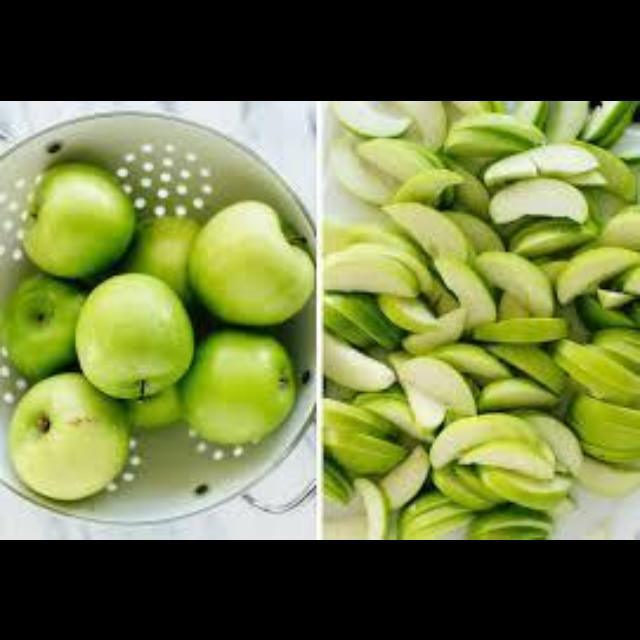apple: (189, 199, 312, 324), (9, 372, 128, 497), (76, 272, 191, 395), (179, 329, 295, 442), (24, 161, 135, 275), (0, 272, 85, 379), (123, 216, 198, 303), (553, 339, 638, 405), (430, 412, 536, 464), (475, 251, 553, 315), (383, 202, 470, 258), (555, 246, 638, 301), (484, 143, 597, 183), (324, 246, 418, 294), (397, 355, 475, 412), (328, 135, 392, 202), (435, 256, 494, 327), (444, 112, 543, 154), (489, 178, 586, 220), (324, 331, 394, 388), (489, 343, 564, 390), (357, 138, 439, 180), (461, 440, 553, 475), (378, 445, 427, 506), (331, 100, 409, 135), (472, 317, 567, 341), (397, 100, 444, 147), (378, 294, 435, 329), (354, 478, 387, 537)
